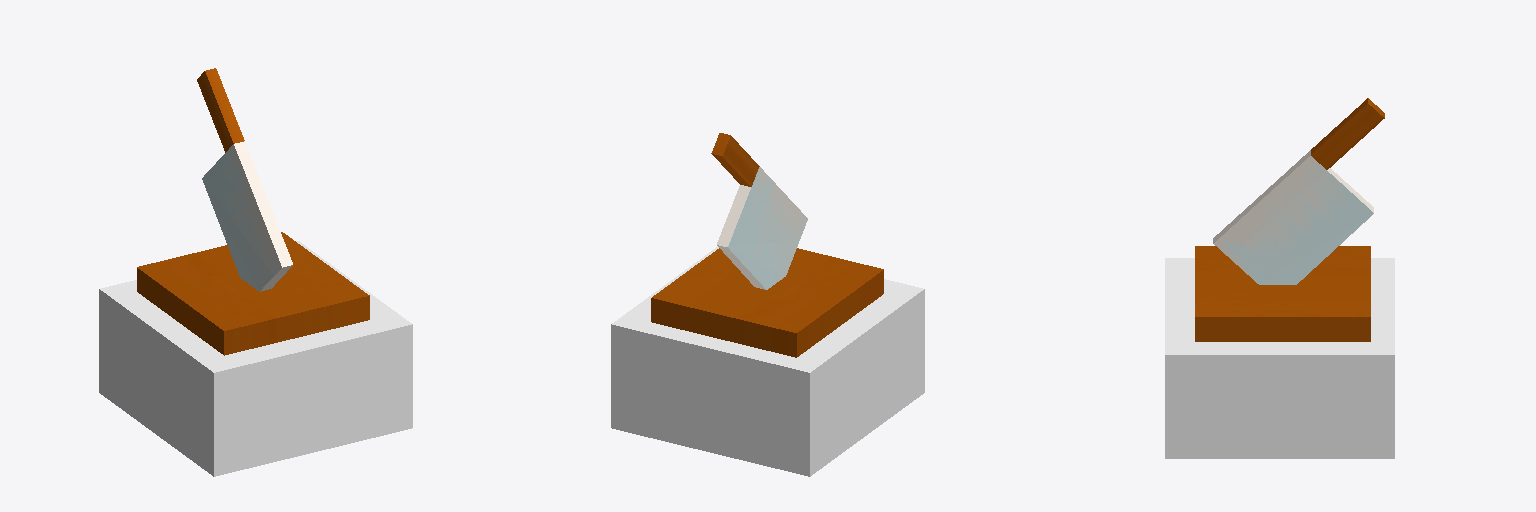
3 views of the same model, side by side, from view 1: azimuth 30°, elevation 25°; view 2: azimuth 150°, elevation 25°; view 3: azimuth 270°, elevation 25° (orthographic).
Visible parts, largest first — view 1: Knife:polySurface1; view 2: Knife:polySurface1; view 3: Knife:polySurface1.
Boxes of the visible parts, box(x1,y1,x2,y2) form: Knife:polySurface1: box(99, 68, 412, 476); Knife:polySurface1: box(611, 133, 924, 476); Knife:polySurface1: box(1165, 98, 1394, 458).
Bounding box in the file's own units: 1 × 1.49 × 1.
1 materials, 1 textured.